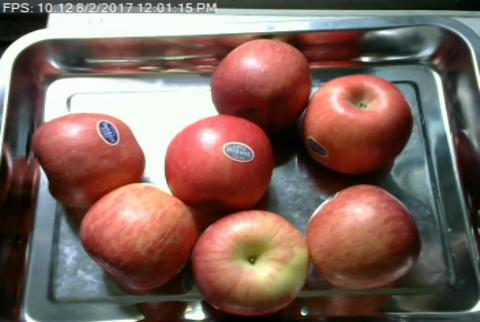apple: (79, 182, 196, 291), (306, 182, 422, 287), (195, 210, 307, 313), (302, 74, 414, 175), (30, 112, 145, 207), (162, 116, 278, 208), (211, 39, 310, 130)
